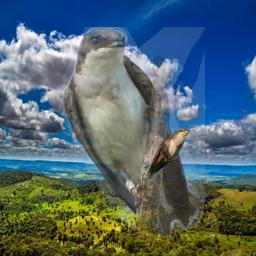Cuckoo: (145, 128, 190, 181)
Swallow: (63, 27, 205, 240)
